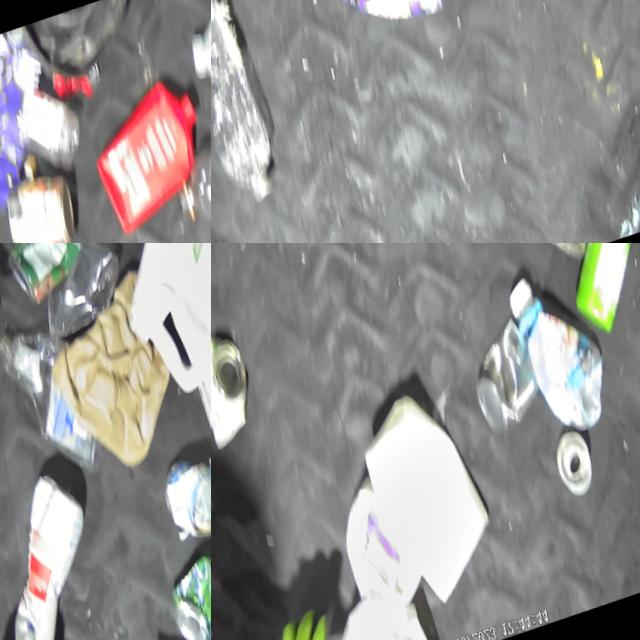can: (463, 321, 556, 450), (211, 330, 267, 456), (0, 171, 88, 243), (0, 243, 92, 311), (165, 550, 211, 640)
milk_jug: (93, 243, 211, 437), (331, 465, 449, 631)
non_white_jug: (80, 74, 211, 243), (542, 243, 640, 347)
plastic_bottle: (211, 0, 300, 224), (170, 124, 211, 229)
